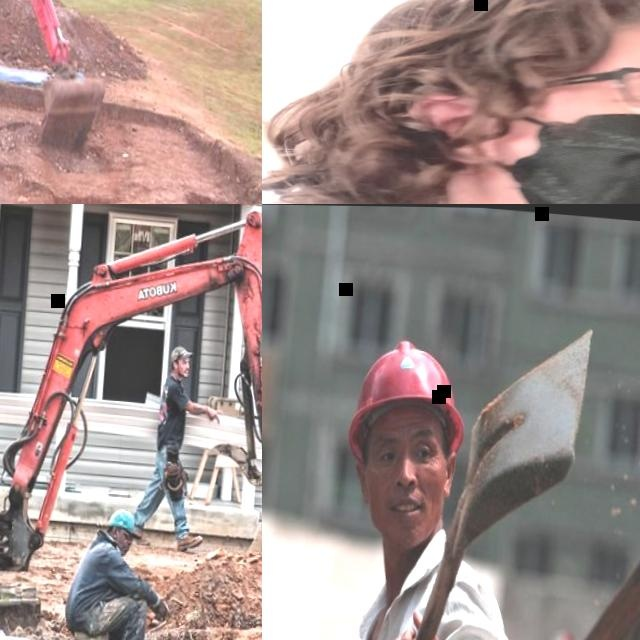Hardhat: (342, 336, 470, 467)
Mask: (466, 87, 640, 204)
NO-Hardhat: (356, 0, 640, 93), (104, 505, 141, 530), (167, 344, 192, 361)
NO-Mask: (368, 487, 439, 547), (174, 365, 189, 375), (119, 543, 129, 555)
NO-Safety Vest: (343, 562, 499, 640), (72, 540, 118, 608), (155, 378, 186, 443)
Person: (262, 0, 640, 204), (318, 332, 550, 640), (127, 340, 228, 552), (59, 502, 179, 640)
machinery: (0, 204, 262, 640), (0, 0, 118, 159)
